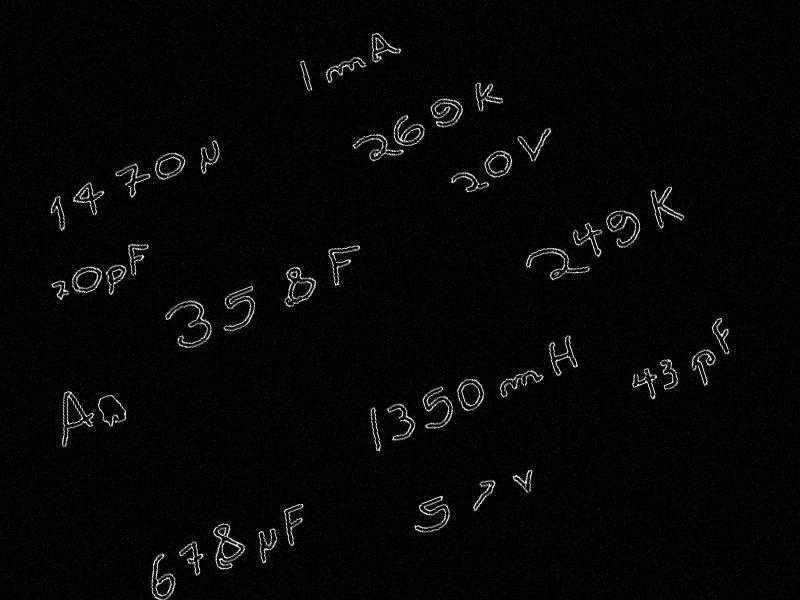0: (451, 370, 491, 416), (65, 258, 108, 299), (479, 143, 520, 185), (149, 144, 190, 185)
1: (360, 402, 390, 454), (43, 192, 74, 236), (294, 55, 318, 96)
2: (520, 229, 595, 296), (347, 120, 406, 175), (446, 159, 492, 200)
3: (159, 289, 219, 359), (380, 395, 421, 446), (652, 352, 685, 396)
4: (567, 216, 613, 267), (67, 175, 113, 224), (625, 362, 666, 407)
5: (210, 280, 268, 338), (404, 490, 456, 541), (413, 382, 460, 437)
6: (139, 548, 184, 600), (385, 107, 431, 156)
7: (112, 155, 158, 205), (461, 472, 505, 516), (175, 537, 209, 581), (48, 275, 73, 303)
8: (202, 515, 252, 575), (272, 257, 323, 312)
9: (601, 201, 647, 255), (426, 88, 470, 134)
A: (44, 381, 104, 453), (362, 23, 404, 67)
F: (320, 234, 372, 289), (276, 498, 318, 548), (121, 235, 159, 278), (706, 313, 738, 360)
H: (542, 329, 583, 378)
V: (514, 121, 560, 168), (508, 465, 540, 500)
k: (643, 179, 687, 232), (468, 72, 508, 115)
m: (495, 362, 547, 400), (320, 49, 371, 87)
p: (685, 343, 725, 391), (100, 259, 135, 299)
u: (250, 522, 288, 569), (190, 137, 228, 179)
